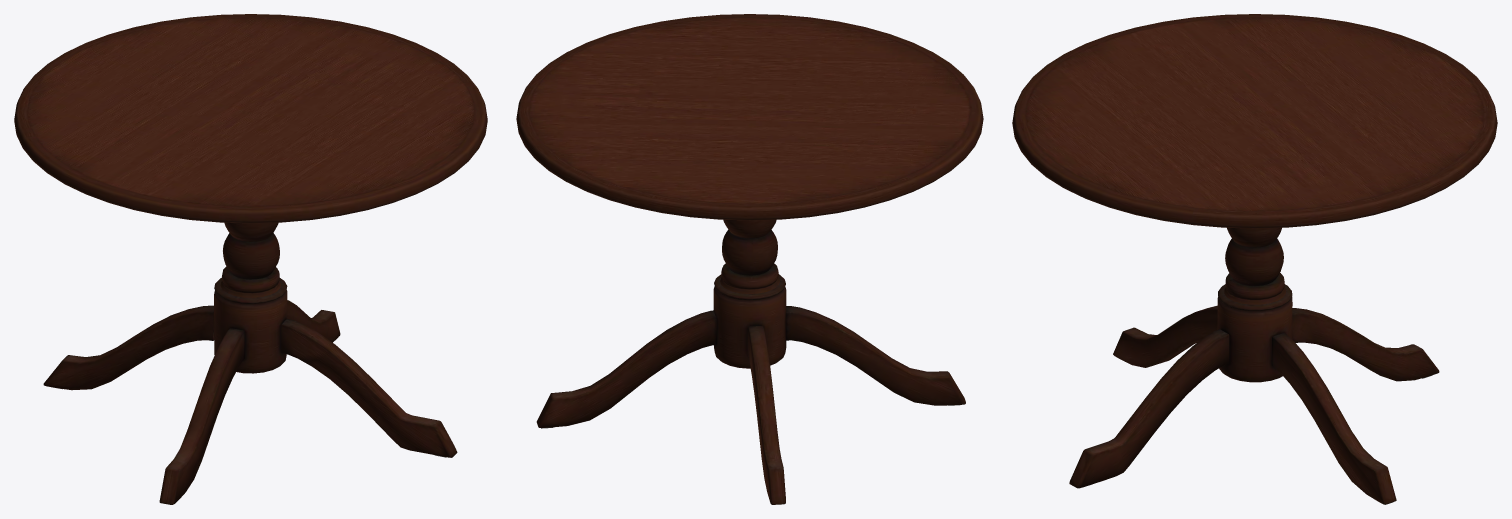
The model's file is round_wooden_table_01.glb.
The picture shows the model from 3 angles, left to right: view 1: azimuth 30°, elevation 25°; view 2: azimuth 150°, elevation 25°; view 3: azimuth 270°, elevation 25°; orthographic projection. The views are drawn at different scales.
Visible parts, largest first — view 1: round_wooden_table_01; view 2: round_wooden_table_01; view 3: round_wooden_table_01.
Part boxes in pixels (x1=…): round_wooden_table_01: x1=14, y1=14, x2=487, y2=504; round_wooden_table_01: x1=516, y1=14, x2=983, y2=504; round_wooden_table_01: x1=1012, y1=14, x2=1497, y2=504.
Size of the model in its own units: 1.4 by 1 by 1.4.
Materials: 1 (1 with a texture image).
